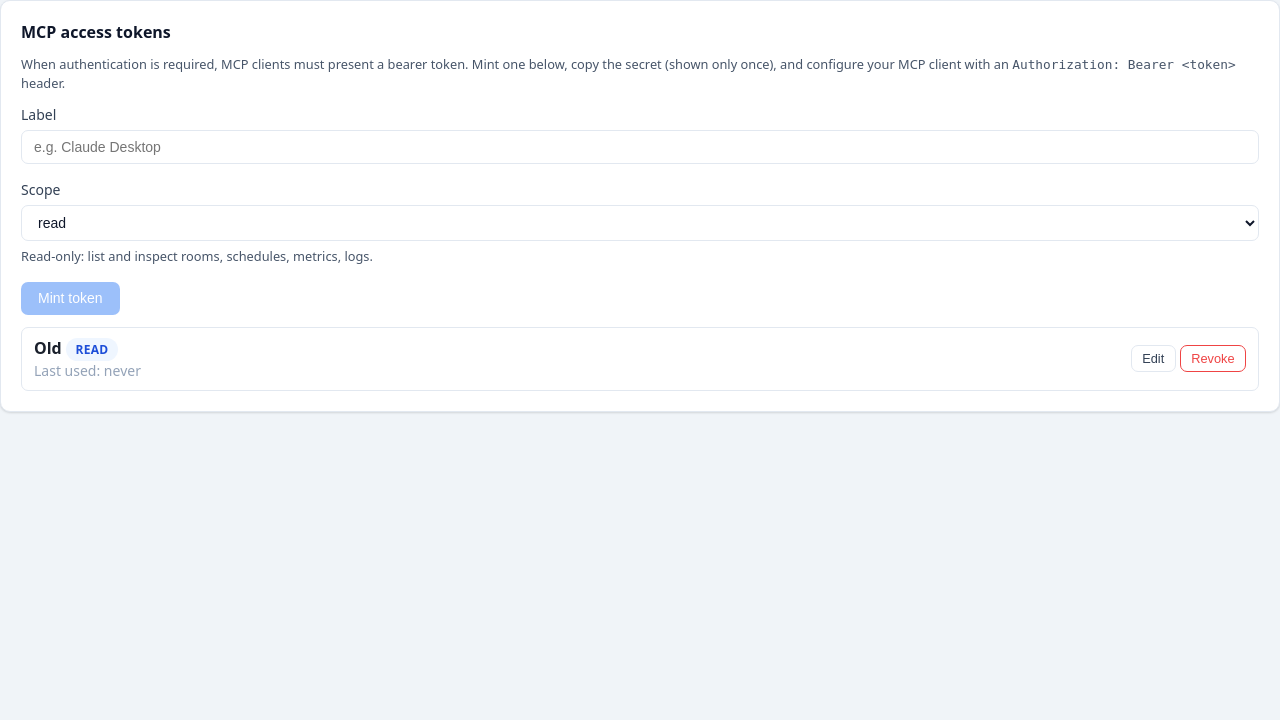
Test: McpTokensCard › shows a confirmation dialog naming the token before revoking
Click the button "Revoke".
click(1213, 359)  # box left=1180, top=345, right=1246, bottom=372
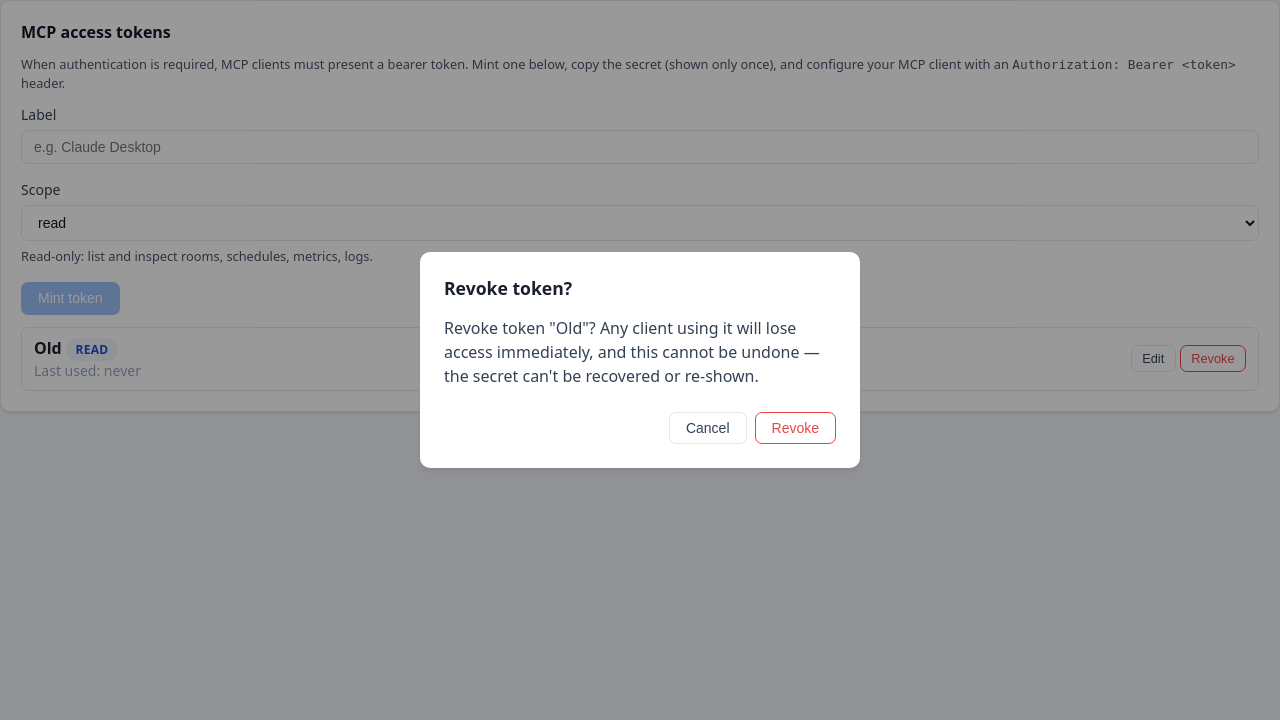
Expected: the text "\"Old\"" is shown, left=444, top=317, right=820, bottom=387
Click the button "Revoke".
click(795, 428)  # box left=754, top=412, right=836, bottom=444
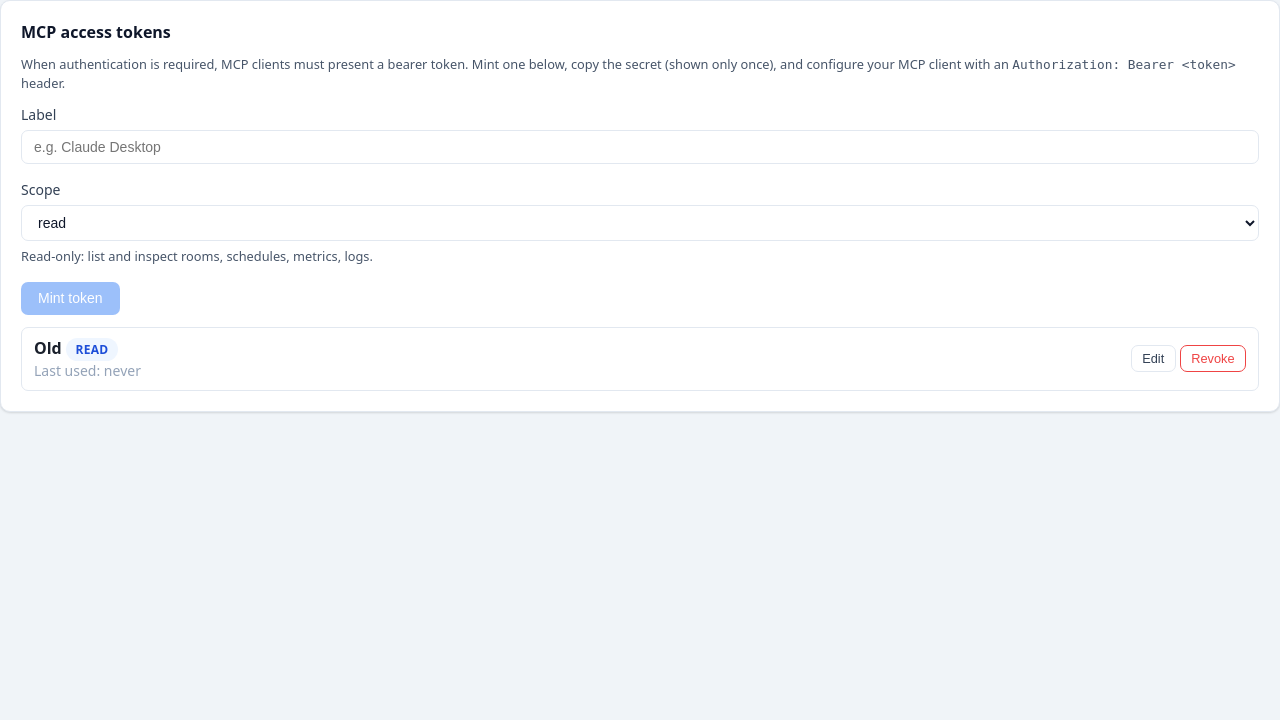
Expected: the element with test id "confirm-dialog" is gone
